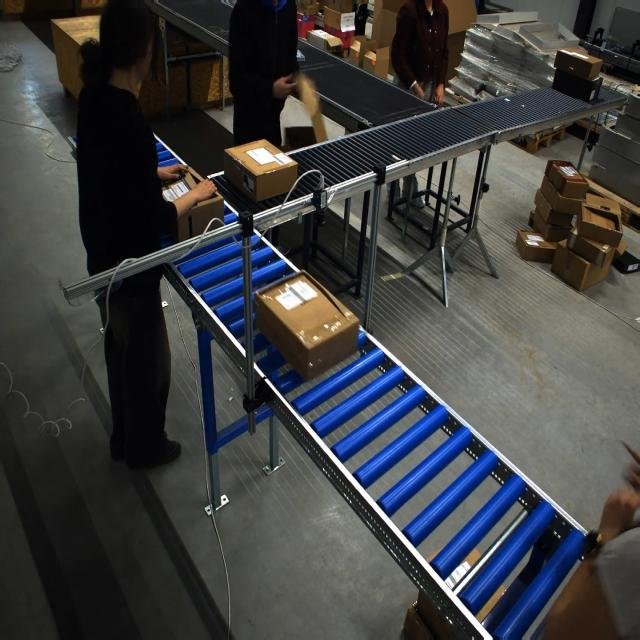box: (255, 270, 355, 379), (223, 139, 297, 205), (164, 168, 223, 246), (285, 70, 321, 145)
